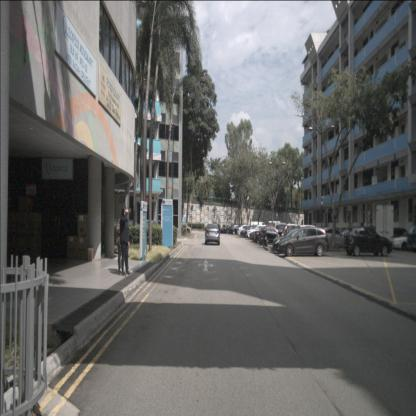human-pedestrian-adult: (115, 210, 133, 274), (119, 205, 130, 277)
vehicle-car: (278, 226, 328, 257), (344, 226, 392, 257), (273, 228, 319, 254), (322, 227, 347, 249), (252, 226, 279, 243), (394, 229, 414, 251), (258, 227, 282, 244), (205, 224, 220, 246), (247, 224, 270, 238), (242, 225, 260, 238), (237, 225, 253, 238), (177, 222, 192, 233), (229, 224, 243, 234), (224, 224, 238, 233), (219, 224, 232, 233)
vehicle-motorcycle: (278, 225, 292, 246), (258, 227, 268, 247)
vehicle-truck: (376, 204, 394, 247), (407, 203, 416, 252)
